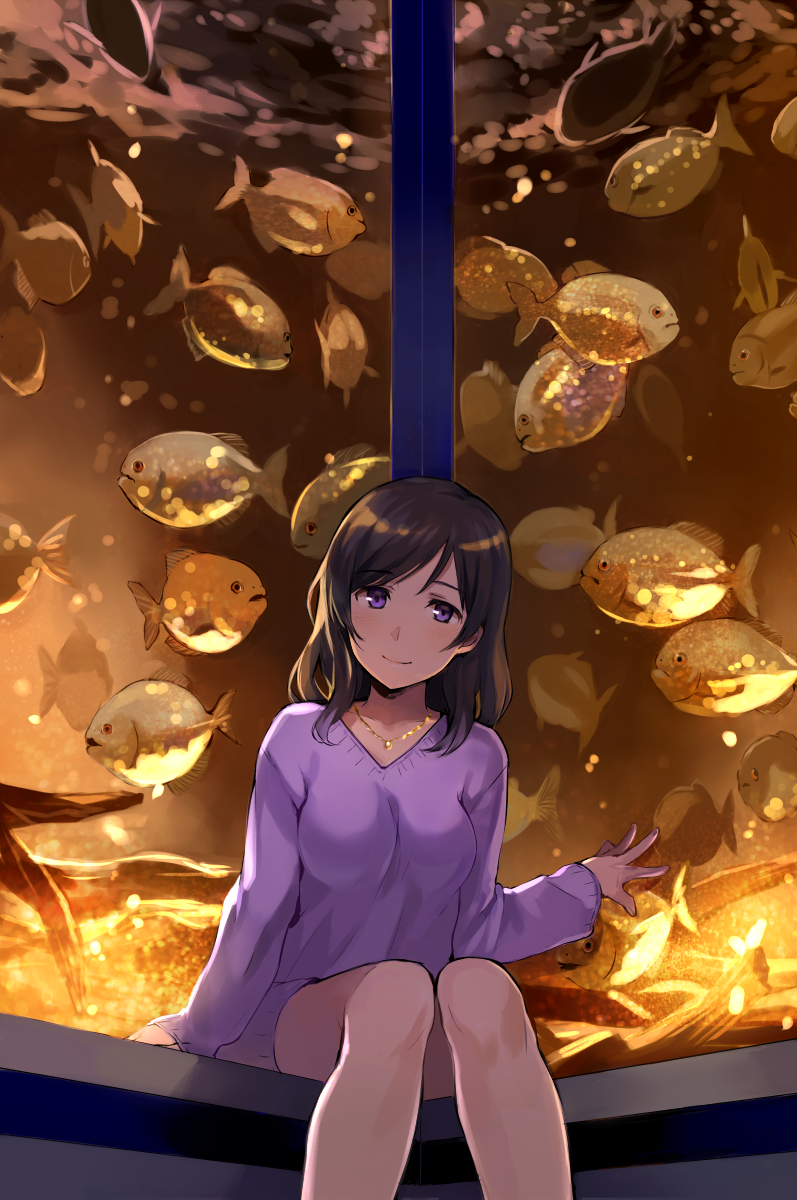纸片人正脸: (310, 474, 515, 705)
